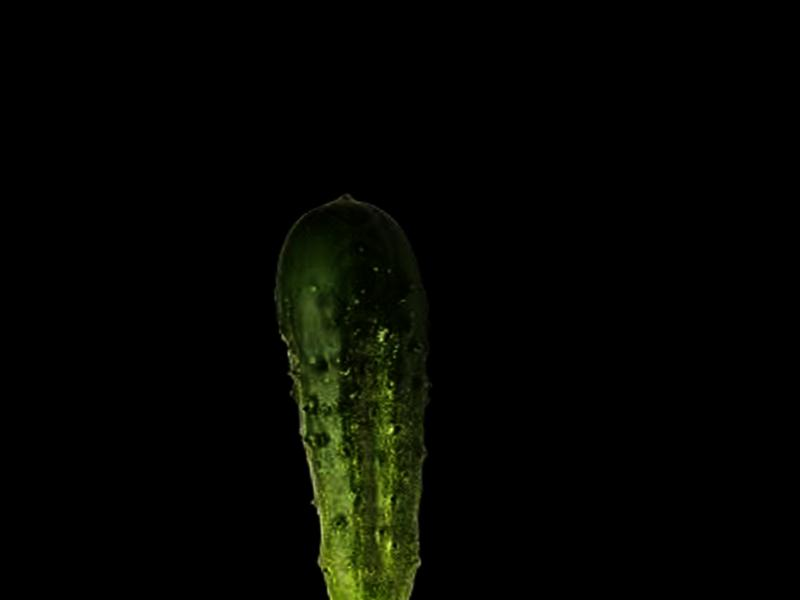Cucumber: (267, 188, 454, 600)
